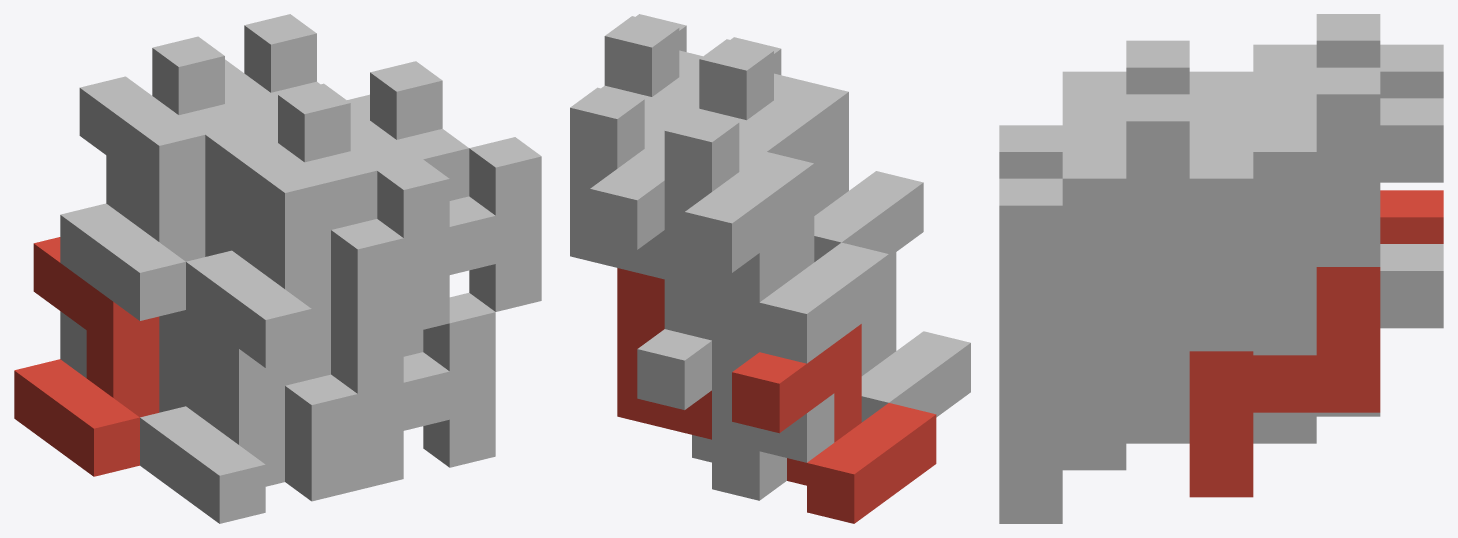
Rendered from tiling.obj.
3 views of the same model, side by side, from view 1: azimuth 30°, elevation 25°; view 2: azimuth 150°, elevation 25°; view 3: azimuth 270°, elevation 25° (orthographic). The views are drawn at different scales.
Visible parts, largest first — view 1: copy_1_domain_4, copy_1_domain_3, copy_1_domain_2, copy_2_domain_4, copy_1_domain_1, copy_2_domain_8, copy_2_domain_2, copy_2_domain_6, copy_1_domain_8, copy_2_domain_3, copy_2_domain_7, copy_1_domain_6 (+2 smaller); view 2: copy_1_domain_3, copy_1_domain_1, copy_1_domain_4, copy_2_domain_3, copy_2_domain_7, copy_1_domain_7, copy_1_domain_5, copy_1_domain_2, copy_2_domain_1, copy_2_domain_5, copy_2_domain_4, copy_2_domain_8 (+1 smaller); view 3: copy_2_domain_7, copy_2_domain_8, copy_2_domain_5, copy_2_domain_6, copy_1_domain_7, copy_1_domain_5, copy_1_domain_8, copy_1_domain_3, copy_2_domain_4, copy_1_domain_6, copy_1_domain_4, copy_2_domain_3 (+1 smaller).
Boxes of the visible parts, box(x1,y1,x2,y2) form: copy_1_domain_4: box(186, 123, 377, 367); copy_1_domain_3: box(60, 76, 250, 320); copy_1_domain_2: box(140, 310, 330, 523); copy_2_domain_4: box(232, 83, 449, 334); copy_1_domain_1: box(14, 237, 159, 476); copy_2_domain_8: box(370, 61, 541, 311); copy_2_domain_2: box(186, 326, 403, 489); copy_2_domain_6: box(403, 293, 495, 467); copy_1_domain_8: box(331, 106, 469, 345); copy_2_domain_3: box(106, 36, 277, 250); copy_2_domain_7: box(244, 14, 369, 119); copy_1_domain_6: box(285, 330, 423, 501); copy_1_domain_3: box(684, 145, 888, 363); copy_1_domain_1: box(732, 324, 936, 523); copy_1_domain_4: box(739, 73, 923, 261); copy_2_domain_3: box(664, 108, 786, 302); copy_2_domain_7: box(570, 85, 664, 279); copy_1_domain_7: box(590, 122, 711, 340); copy_1_domain_5: box(637, 329, 786, 500); copy_1_domain_2: box(861, 252, 970, 422); copy_2_domain_1: box(712, 291, 834, 462); copy_2_domain_5: box(617, 268, 711, 439); copy_2_domain_4: box(699, 37, 821, 215); copy_2_domain_8: box(604, 14, 686, 96); copy_2_domain_7: box(1189, 67, 1380, 351); copy_2_domain_8: box(999, 94, 1189, 378); copy_2_domain_5: box(1189, 267, 1380, 497); copy_2_domain_6: box(999, 294, 1189, 523); copy_1_domain_7: box(1253, 98, 1443, 297); copy_1_domain_5: box(1253, 244, 1443, 443); copy_1_domain_8: box(1062, 125, 1253, 324); copy_1_domain_3: box(1253, 44, 1443, 98); copy_2_domain_4: box(999, 40, 1189, 178); copy_1_domain_6: box(1062, 324, 1189, 470); copy_1_domain_4: box(1062, 71, 1253, 125); copy_2_domain_3: box(1189, 14, 1380, 125).
Size of the model in its own units: 8 by 7 by 7.
